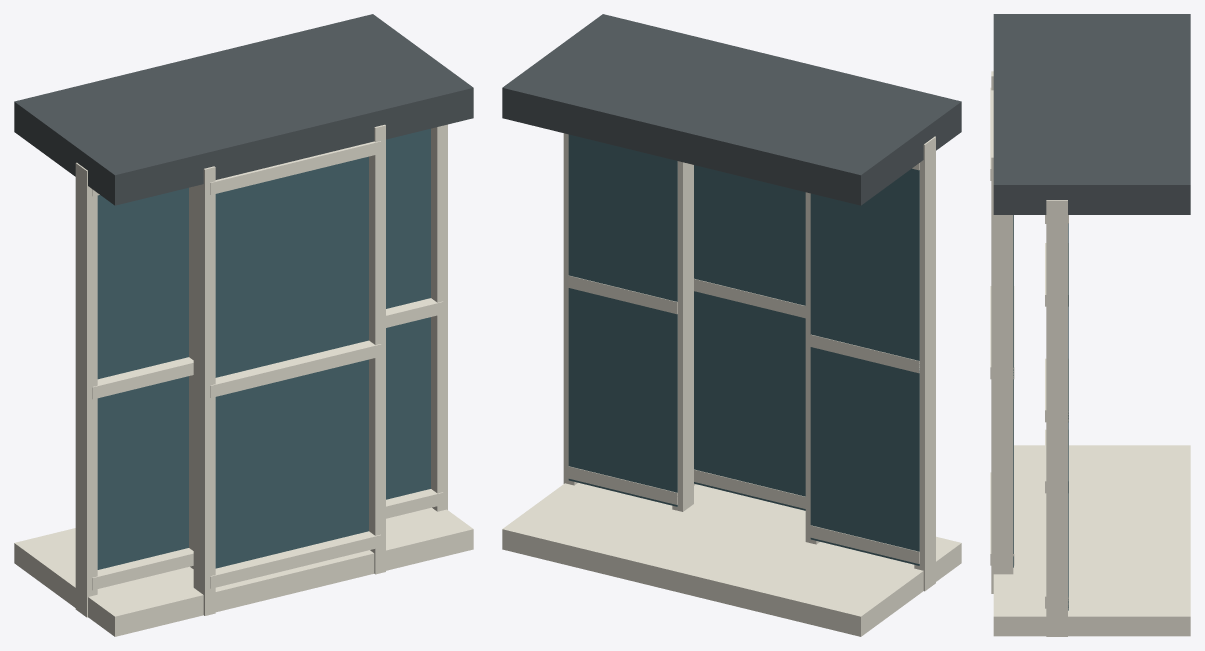
3 renders of one model, left to right at view 1: azimuth 30°, elevation 25°; view 2: azimuth 150°, elevation 25°; view 3: azimuth 270°, elevation 25°, orthographic. The views are drawn at different scales.
Visible parts, largest first — view 1: QH-A0040_V01_geometry; view 2: QH-A0040_V01_geometry; view 3: QH-A0040_V01_geometry.
Part boxes in pixels (x1,y1,x2,y2): QH-A0040_V01_geometry: (14,14,473,636); QH-A0040_V01_geometry: (502,14,961,636); QH-A0040_V01_geometry: (990,14,1190,636).
Bounding box in the file's own units: 1.86 × 2.28 × 0.915.
